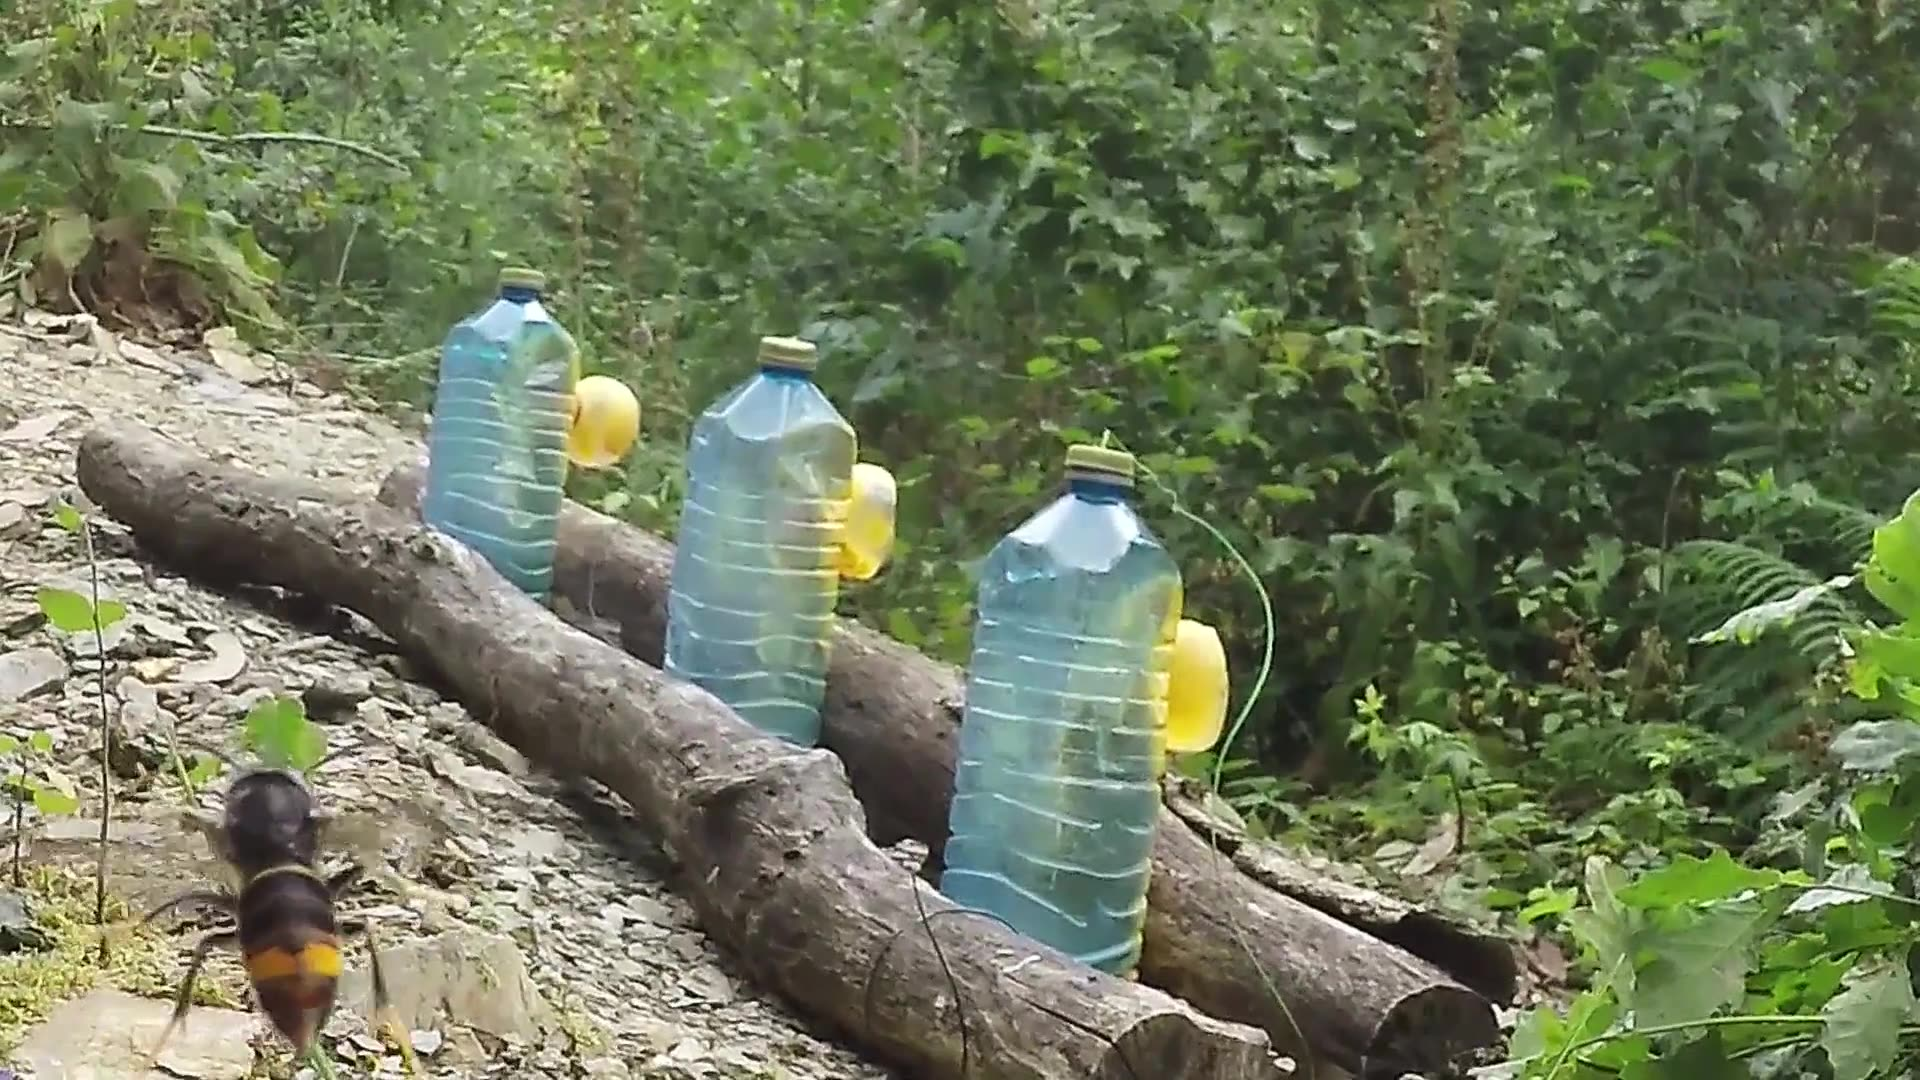hornet: (185, 749, 388, 1062)
